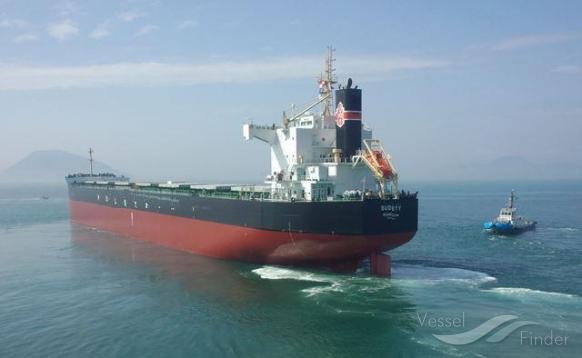OCR: (90, 190, 179, 208), (375, 202, 404, 224)
